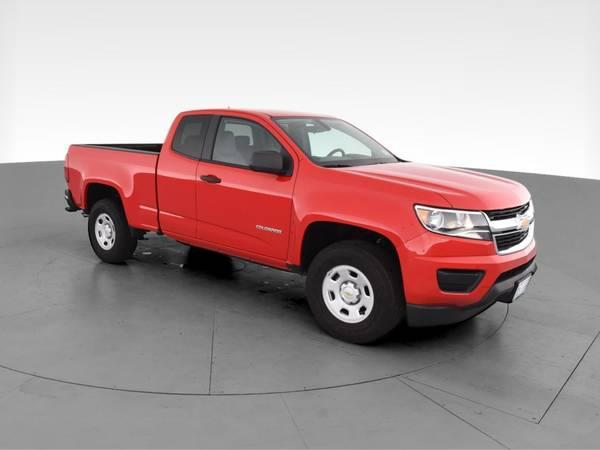Front_Bumper: (394, 231, 536, 328)
Front_Fender: (287, 161, 452, 266)
Front_Right_Door: (196, 163, 295, 267)
Front_Right_Window: (199, 116, 294, 180)
Front_Windshield: (269, 117, 402, 170)
Grille: (479, 194, 533, 255)
Hood: (328, 158, 529, 209)
Rear_Fender: (64, 145, 161, 234)
Rear_Right_Door: (154, 154, 198, 246)
Rear_Right_Window: (169, 115, 210, 163)
Right_Headlight: (416, 205, 494, 243)
Roof: (159, 109, 332, 164)
Wheel: (305, 235, 404, 338), (84, 198, 135, 261)
